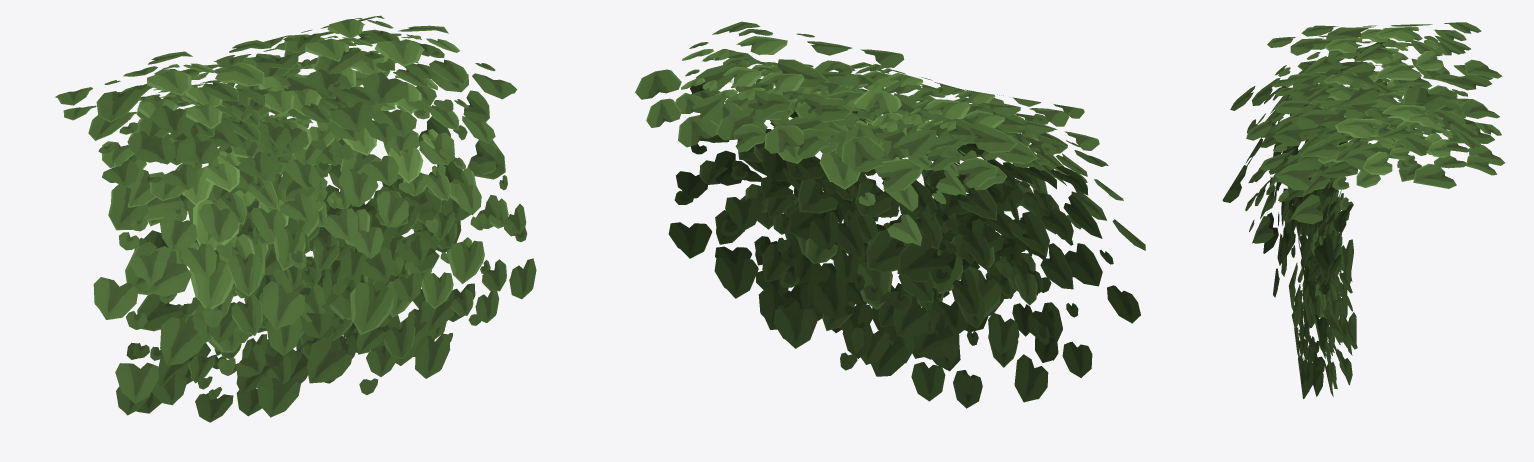
Rendered from SM_Env_Vines_02.fbx.
3 renders of one model, left to right at view 1: azimuth 30°, elevation 25°; view 2: azimuth 150°, elevation 25°; view 3: azimuth 270°, elevation 25°, orthographic. The views are drawn at different scales.
Visible parts, largest first — view 1: SM_Env_Vines_02_LOD0; view 2: SM_Env_Vines_02_LOD0; view 3: SM_Env_Vines_02_LOD0.
Boxes of the visible parts, x1,y1,x2,y2 form: SM_Env_Vines_02_LOD0: (55, 15, 536, 422); SM_Env_Vines_02_LOD0: (635, 21, 1145, 408); SM_Env_Vines_02_LOD0: (1222, 22, 1504, 398).
Size of what is drawn, in the model's own units: 441 by 293 by 274.
